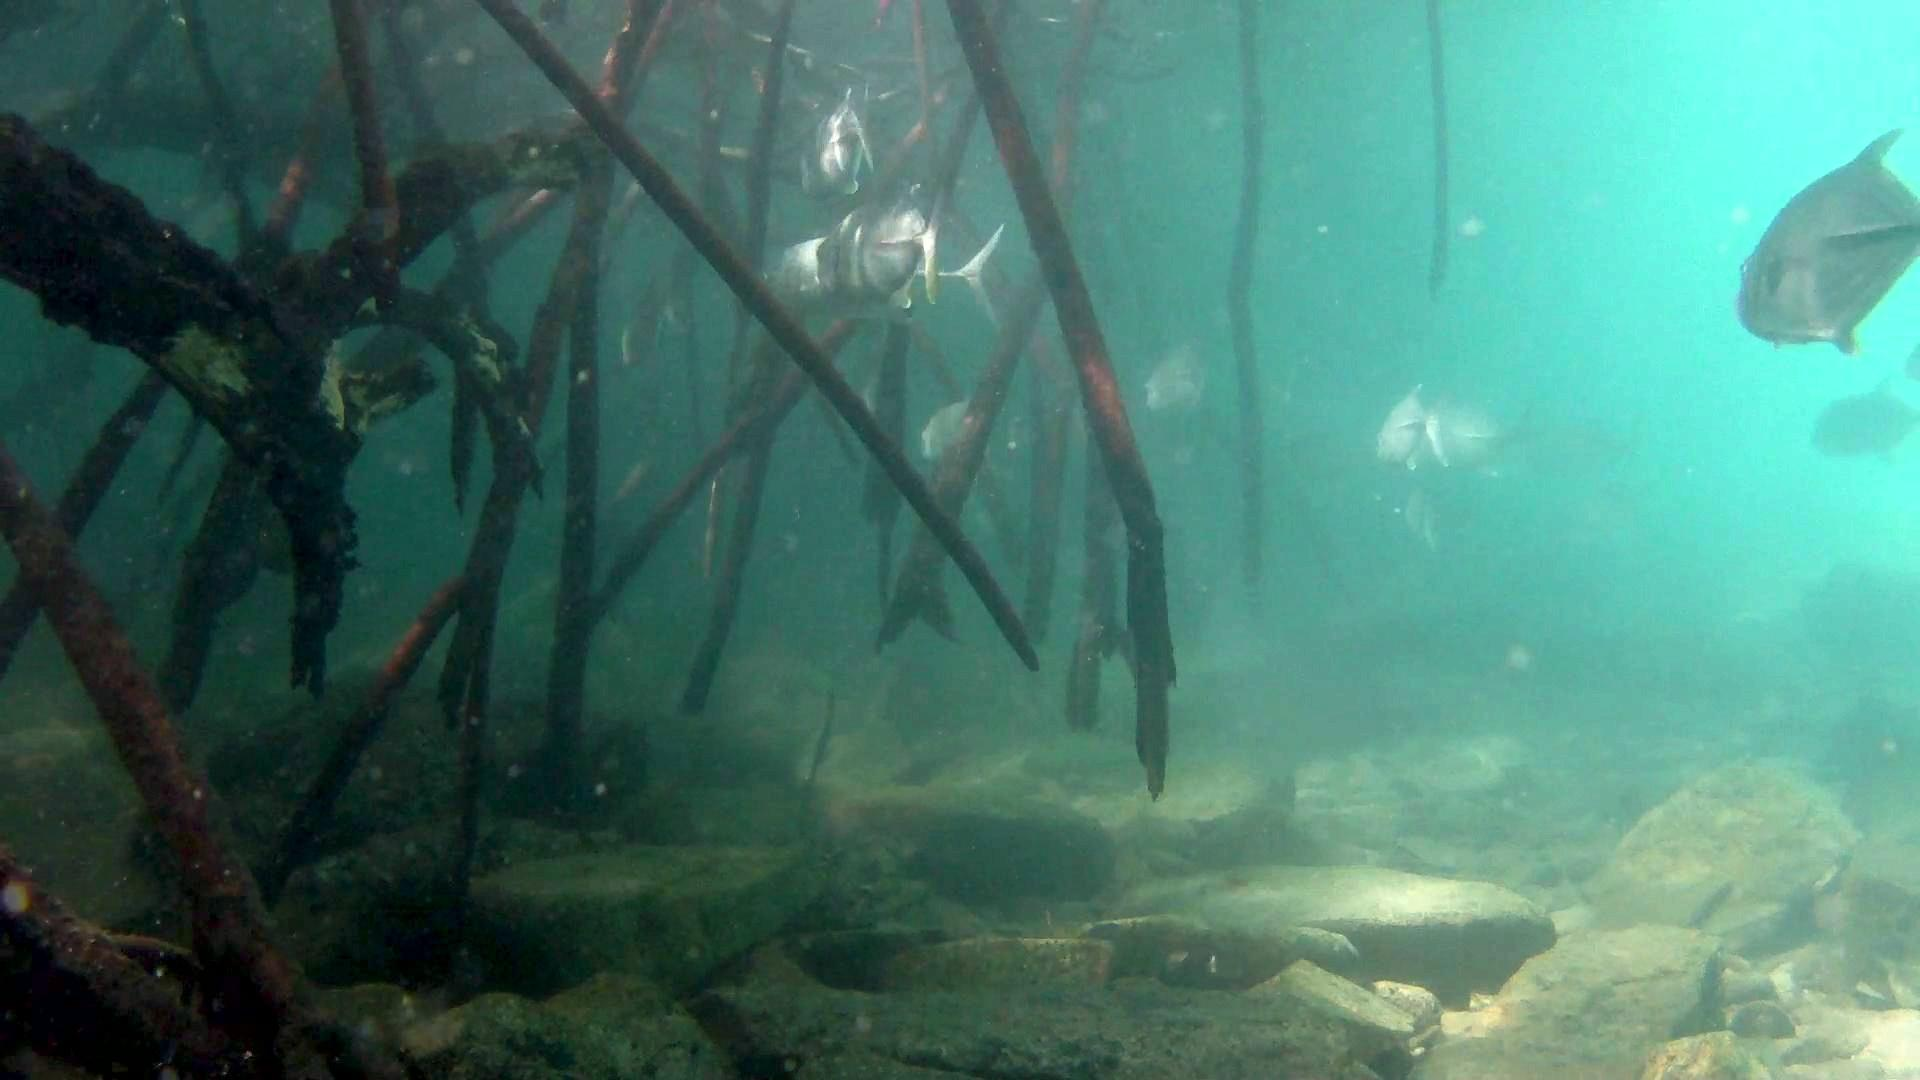caranx: (1727, 120, 1920, 359), (805, 190, 964, 325)
